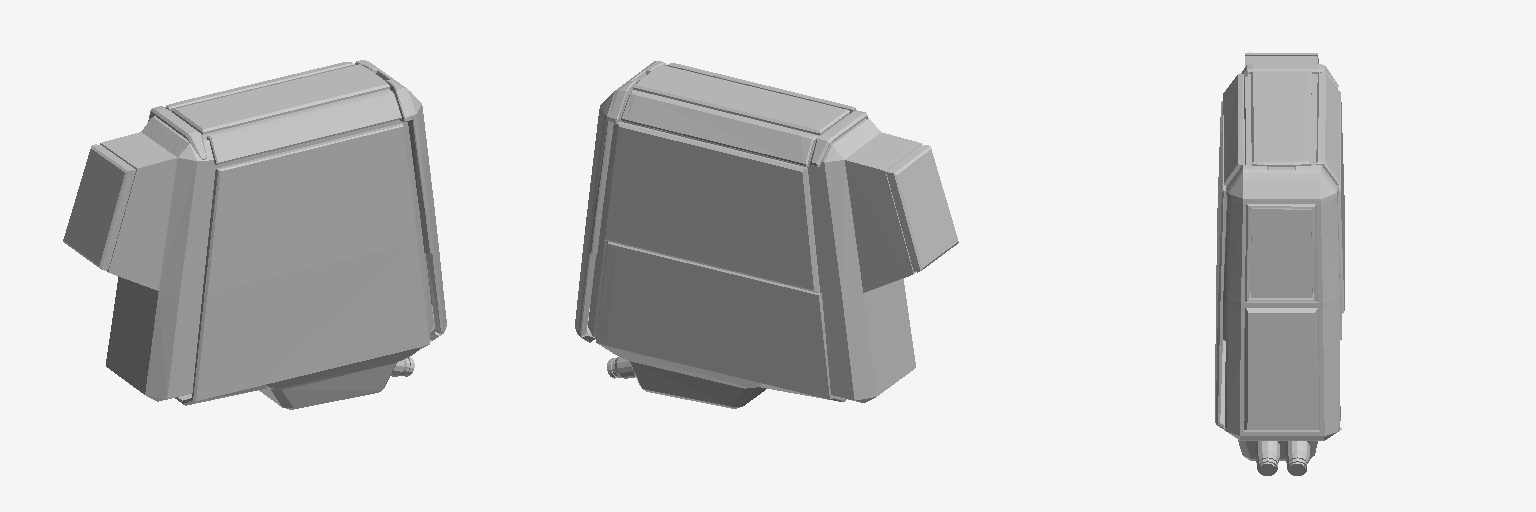
The model's file is SideBody.obj.
The picture shows the model from 3 angles: view 1: azimuth 30°, elevation 25°; view 2: azimuth 150°, elevation 25°; view 3: azimuth 270°, elevation 25°; orthographic projection.
Visible parts, largest first — view 1: polySurface165; view 2: polySurface165; view 3: polySurface165.
Boxes of the visible parts, x1,y1,x2,y2 form: polySurface165: [63, 60, 446, 409]; polySurface165: [575, 61, 958, 408]; polySurface165: [1215, 52, 1344, 475].
Bounding box in the file's own units: 3.43 × 2.88 × 1.11.